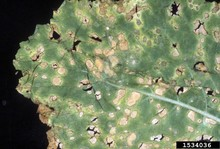damaged_cabbage: (12, 1, 219, 149)
